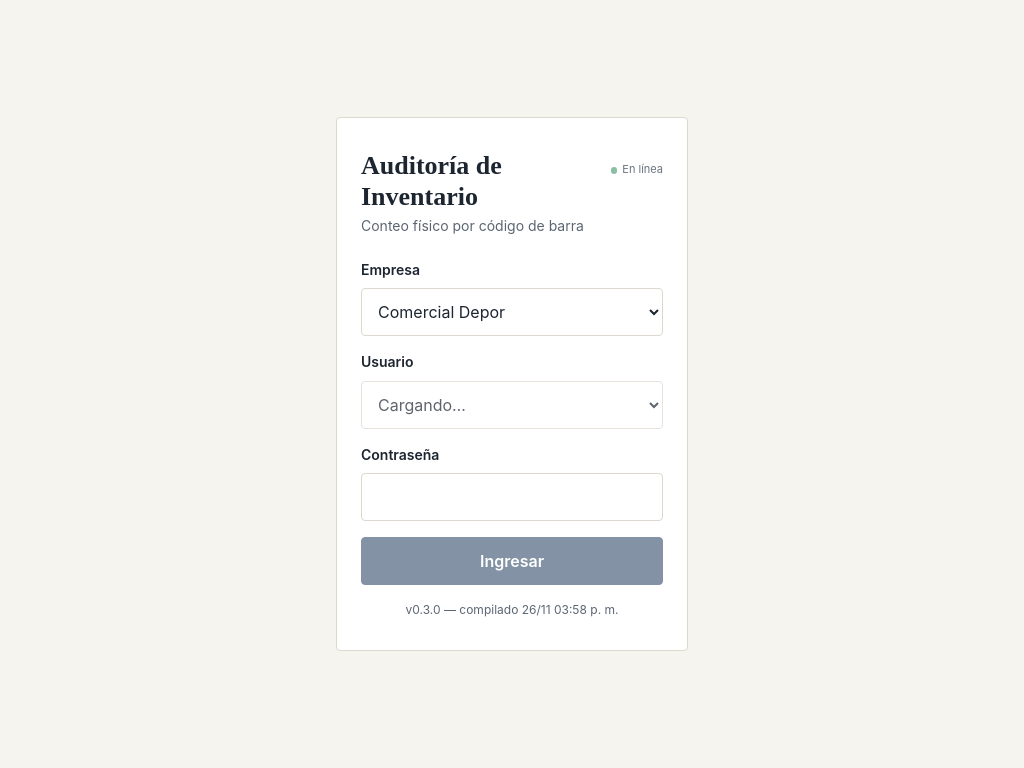
App (costura de integración) › tras un login exitoso entra directo a Inicio, sin sincronizar el maestro (I-1)
Expected: the button "Ingresar" is shown, [361,537,663,585]
Select "Comercial Depor" in the dropdown labelled "Empresa" at (512, 312), box [361,288,663,336]
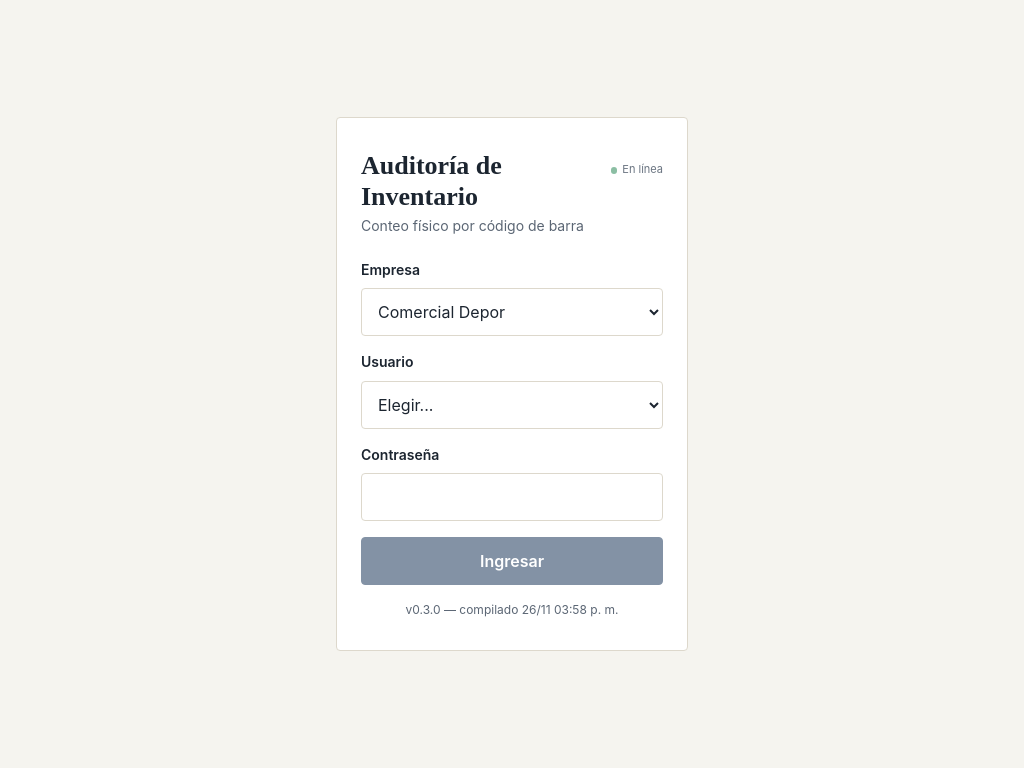
Select "Jorge Muñoz" in the dropdown labelled "Usuario" at (512, 405), box [361,381,663,429]
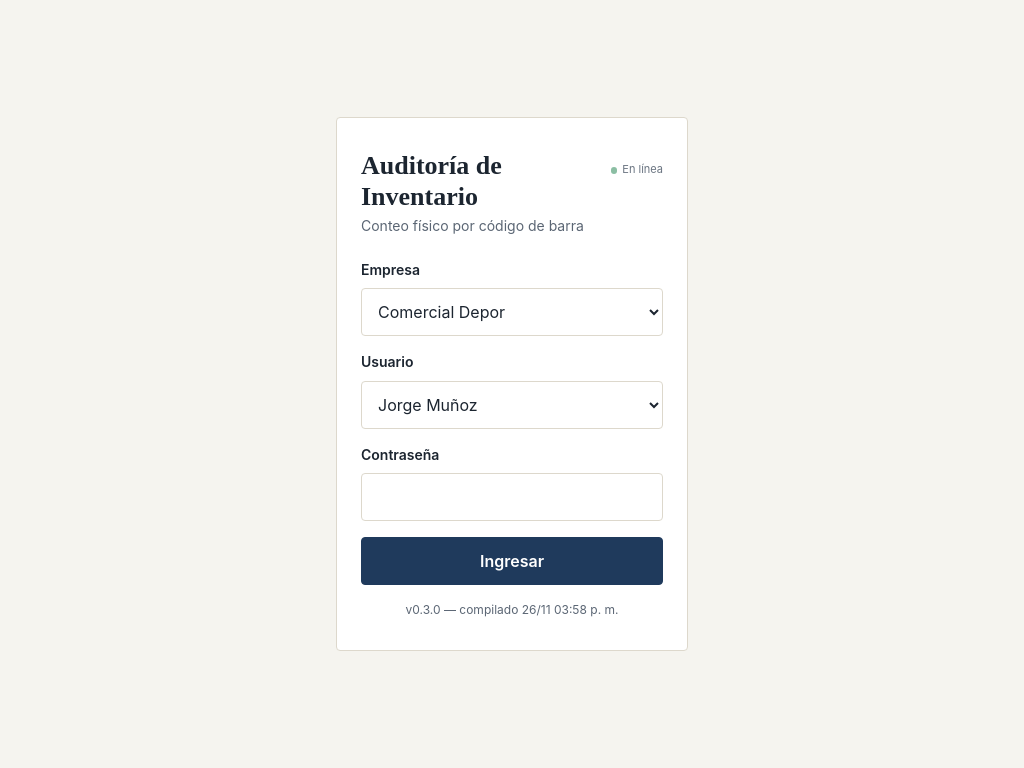
Type "secreto" into the password field labelled "Contraseña" at (512, 497), box [361,473,663,521]
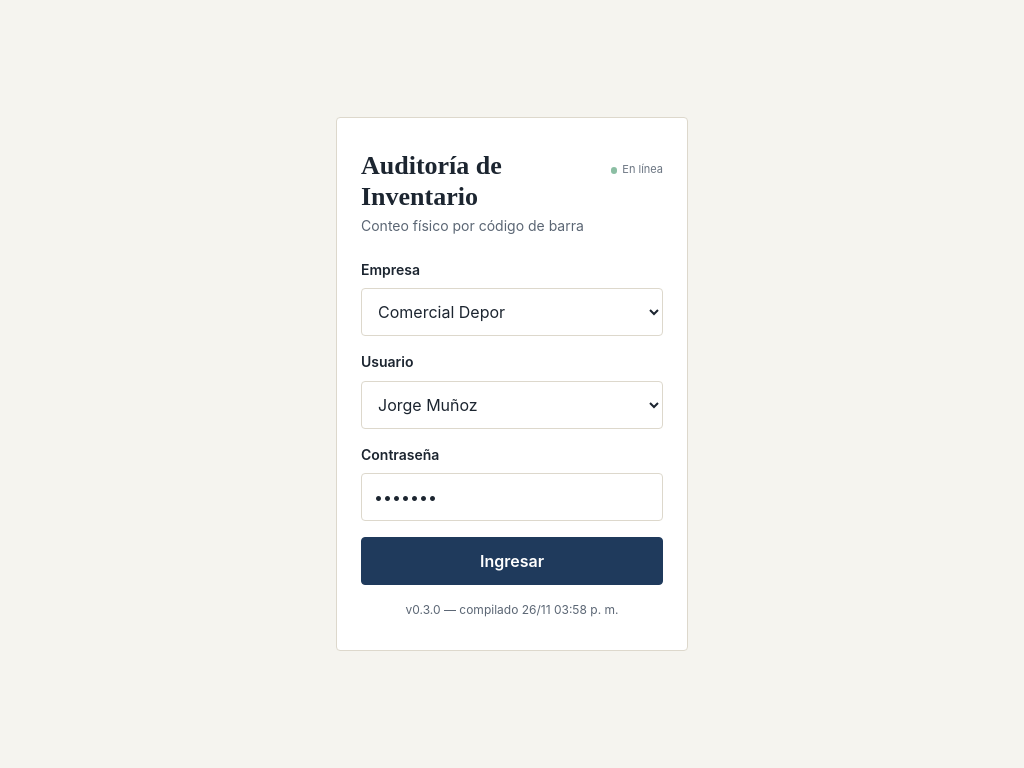
Click the button "Ingresar" at (512, 561), box [361,537,663,585]
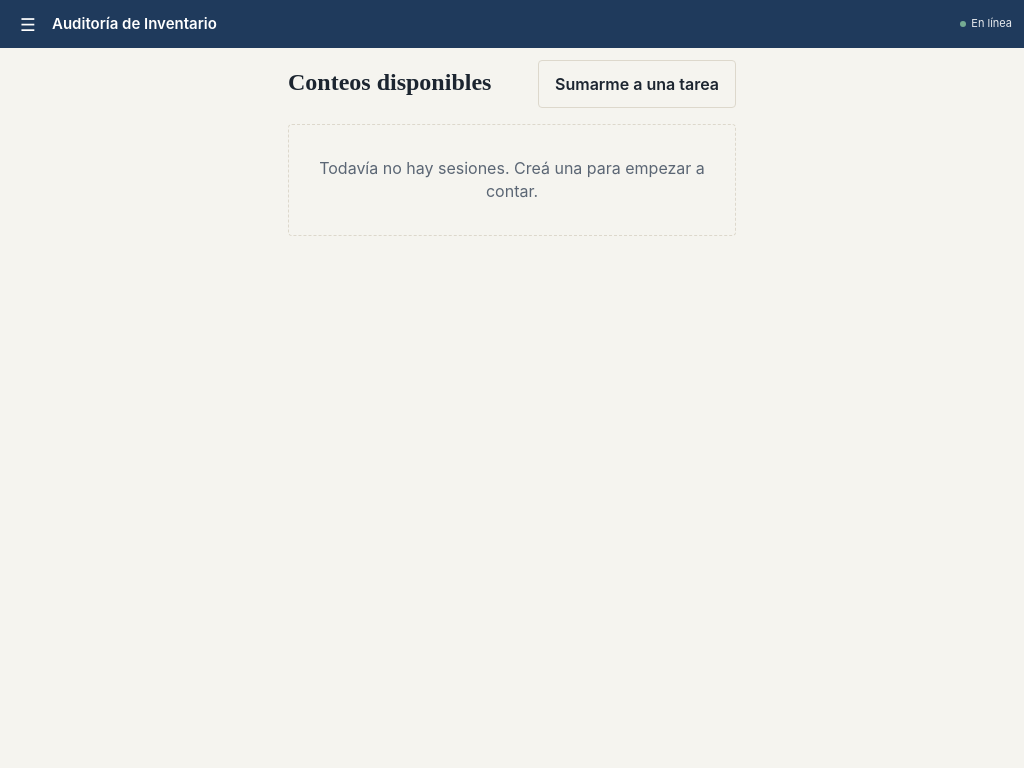
Now the heading "Conteos disponibles" is shown, box [288,68,491,97]
Now the button "Ingresar" is gone
